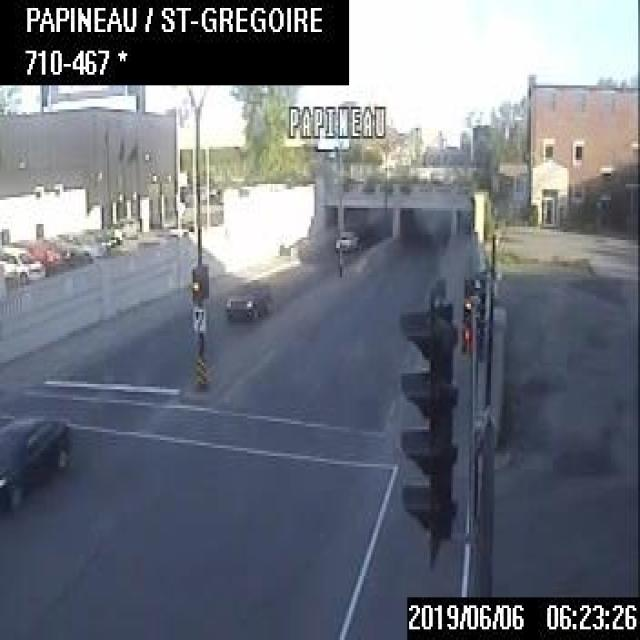vehicle: (0, 411, 73, 509), (0, 242, 47, 285), (225, 278, 271, 318), (22, 238, 64, 274), (333, 229, 356, 251)
